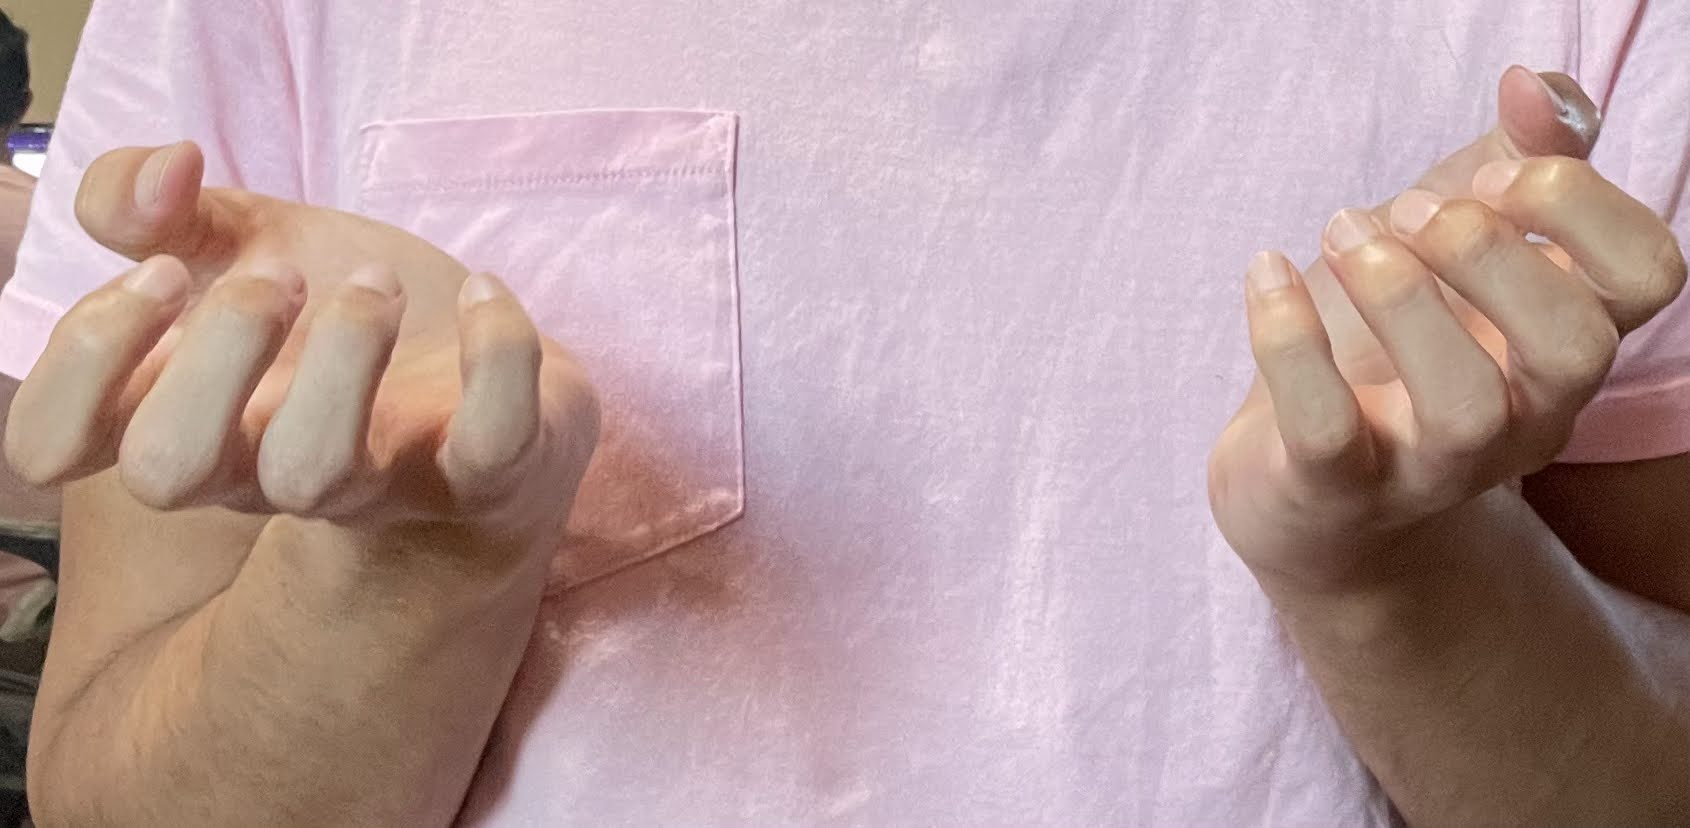want: (2, 64, 1690, 565)
